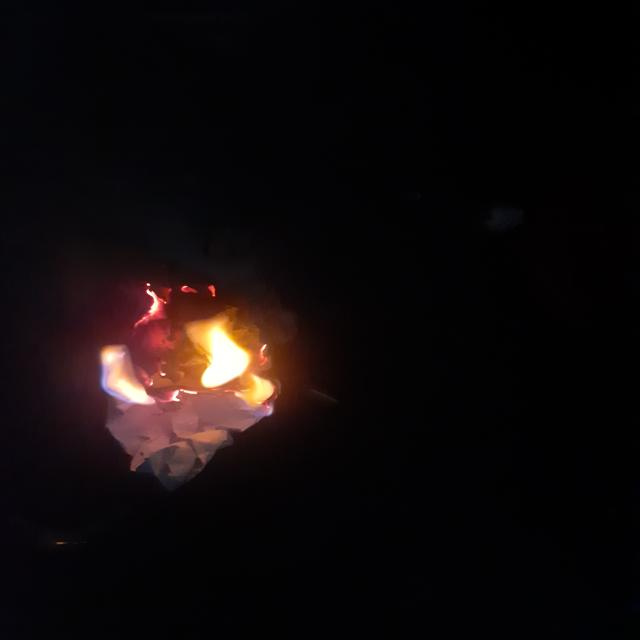firerotation: (94, 280, 277, 418)
